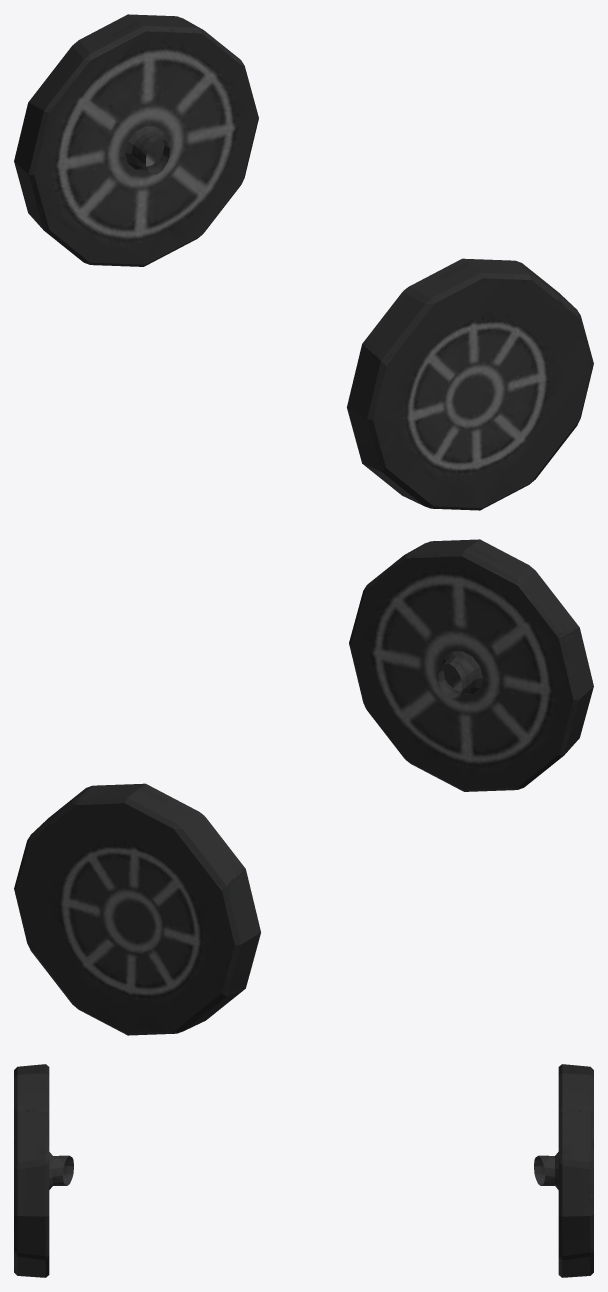
The model's file is strProp_53.glb.
3 renders of one model, top to bottom at view 1: azimuth 30°, elevation 25°; view 2: azimuth 150°, elevation 25°; view 3: azimuth 270°, elevation 25°, orthographic. The views are drawn at different scales.
Parts seen in each view (by area): view 1: geometry_0; view 2: geometry_0; view 3: geometry_0.
Part boxes in pixels (left/top/right/bottom): geometry_0: left=14, top=14, right=593, bottom=510; geometry_0: left=14, top=539, right=593, bottom=1035; geometry_0: left=14, top=1064, right=593, bottom=1277.
Bounding box in the file's own units: 0.1978 × 0.1978 × 0.5309.
1 material, 1 textured.
